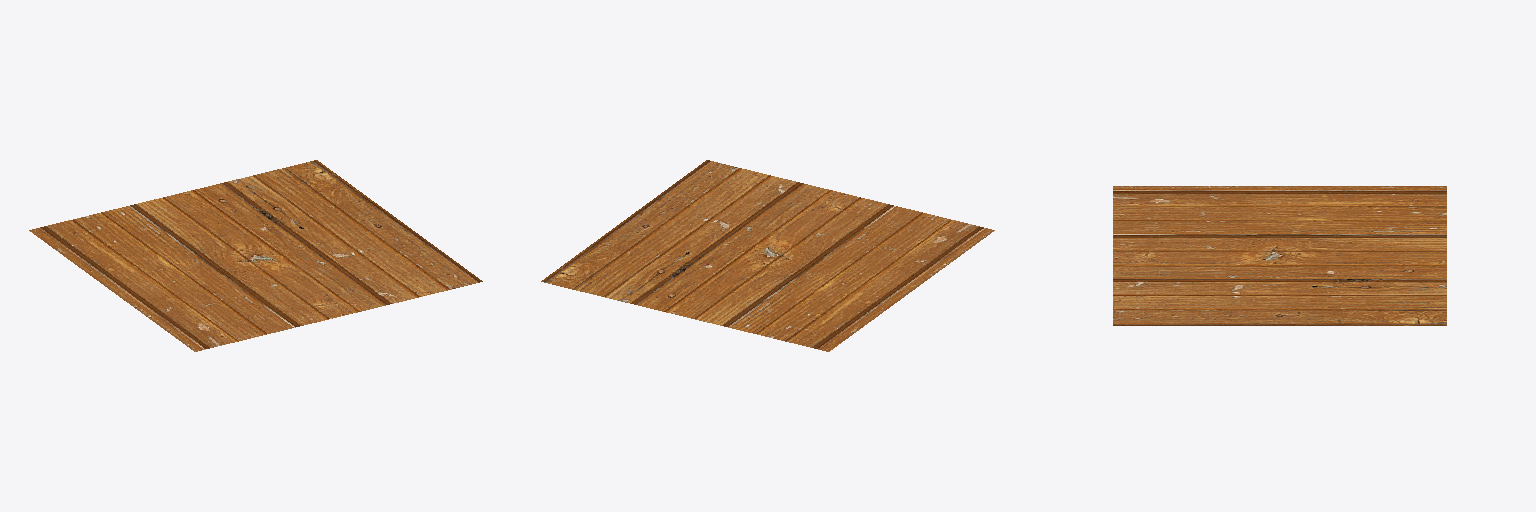
3 views of the same model, side by side, from view 1: azimuth 30°, elevation 25°; view 2: azimuth 150°, elevation 25°; view 3: azimuth 270°, elevation 25° (orthographic).
Visible parts, largest first — view 1: floor; view 2: floor; view 3: floor.
Part boxes in pixels (x1,y1,x2,y2): floor: (29,160,482,351); floor: (541,160,994,351); floor: (1113,186,1446,325).
Bounding box in the file's own units: 1 × 0 × 1.
1 materials, 1 textured.